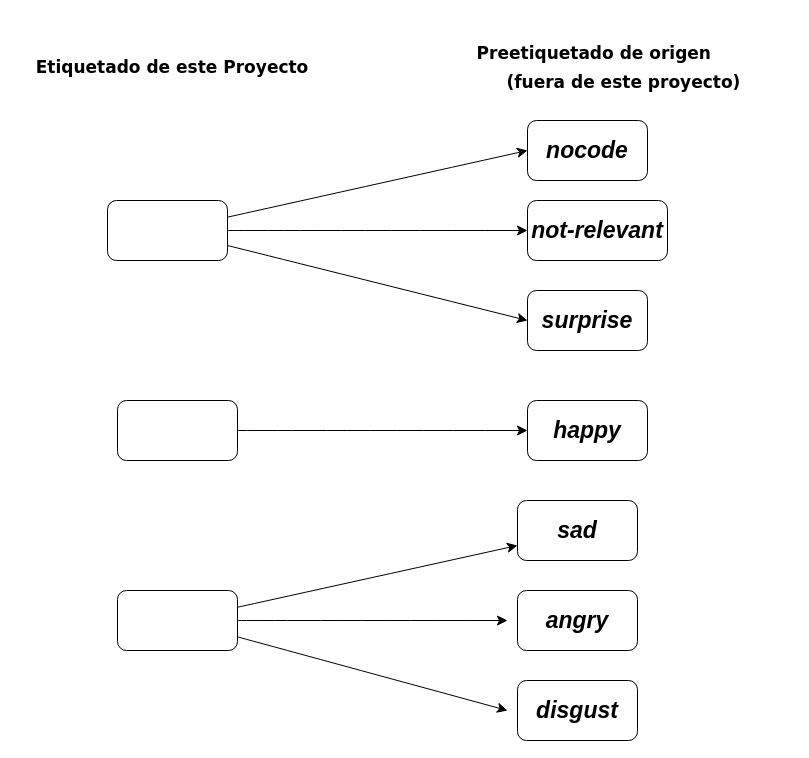
Image size: 809x758. Some labels were removed from this diagram. Each missing label, with the centre of its shape:
"Negativo" goes at point (177, 620).
"Neutro" goes at point (167, 230).
"Positivo" goes at point (177, 430).
